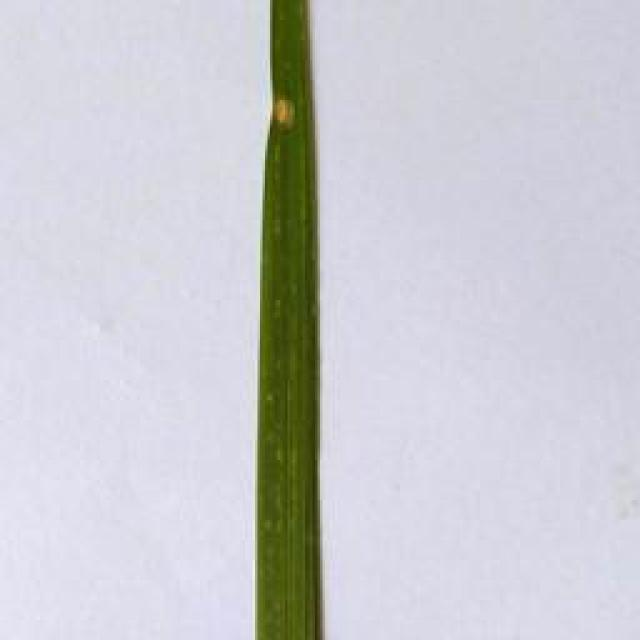Unhealthy: (270, 91, 297, 135)
